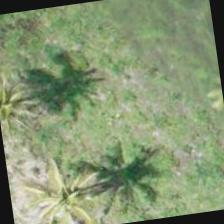Kelapa_Sawit: (18, 146, 120, 223), (0, 54, 61, 152)
